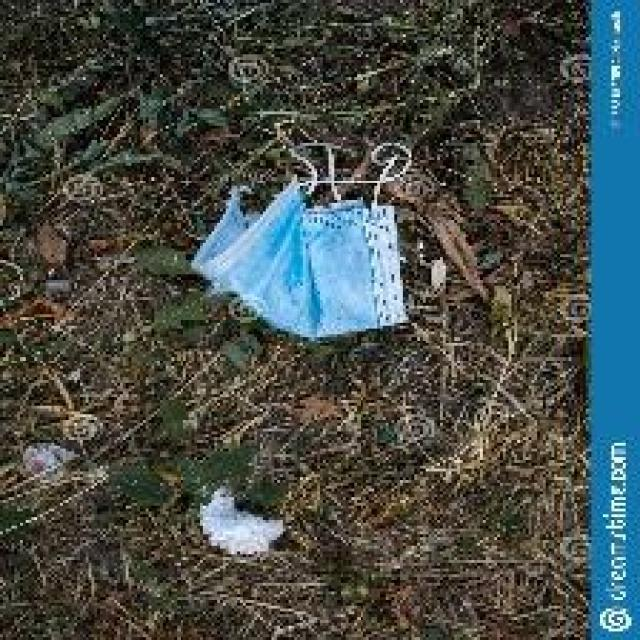Mask: (159, 126, 451, 377)
